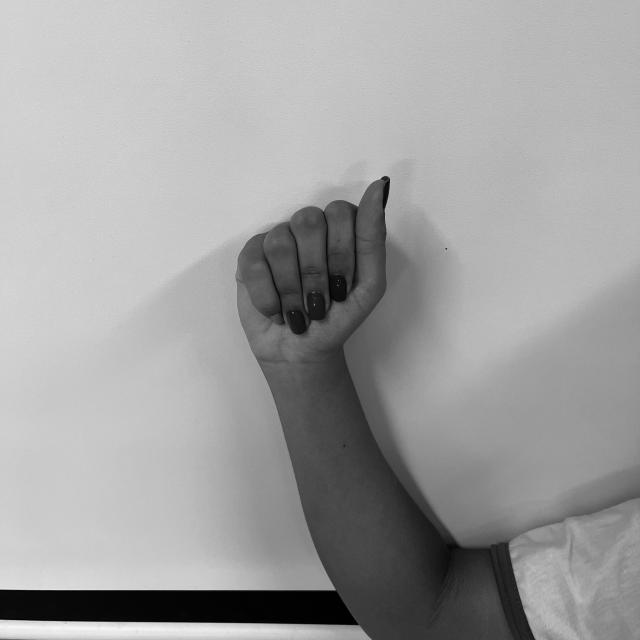Letra A: (226, 166, 400, 369)
